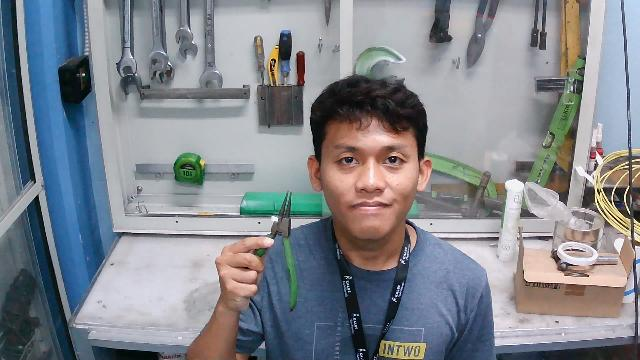tang_cucut_lancip_2: (212, 187, 307, 317)
